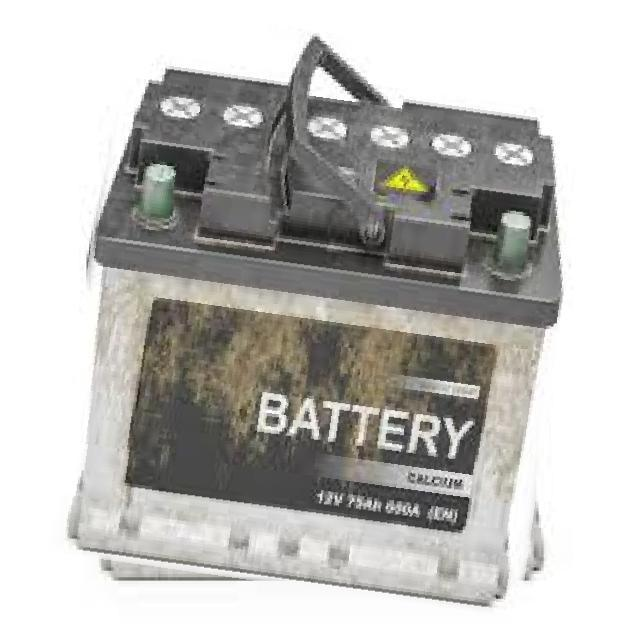Battery: (58, 30, 581, 604)
